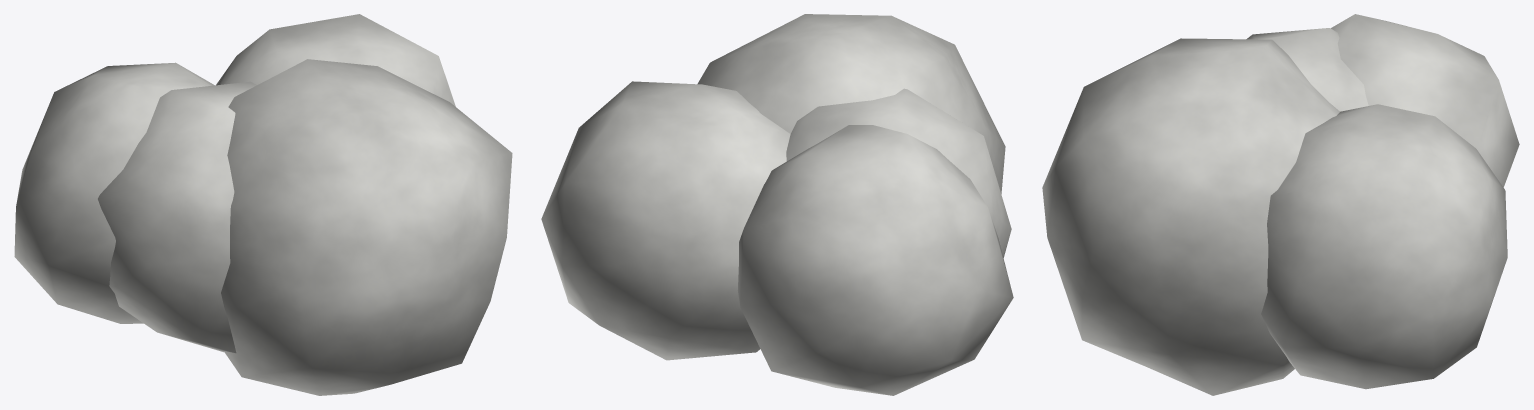
Rendered from ker_v0.glb.
The picture shows the model from 3 angles, left to right: view 1: azimuth 30°, elevation 25°; view 2: azimuth 150°, elevation 25°; view 3: azimuth 270°, elevation 25°; orthographic projection.
Parts seen in each view (by area): view 1: dum; view 2: dum; view 3: dum.
Boxes of the visible parts, <box> form: dum: <box>14,14,512,395</box>; dum: <box>541,14,1013,395</box>; dum: <box>1042,14,1519,395</box>.
Bounding box in the file's own units: 1.3 × 0.8934 × 1.24.
Materials: 1 (1 with a texture image).
